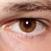eye: (20, 20, 36, 32)
